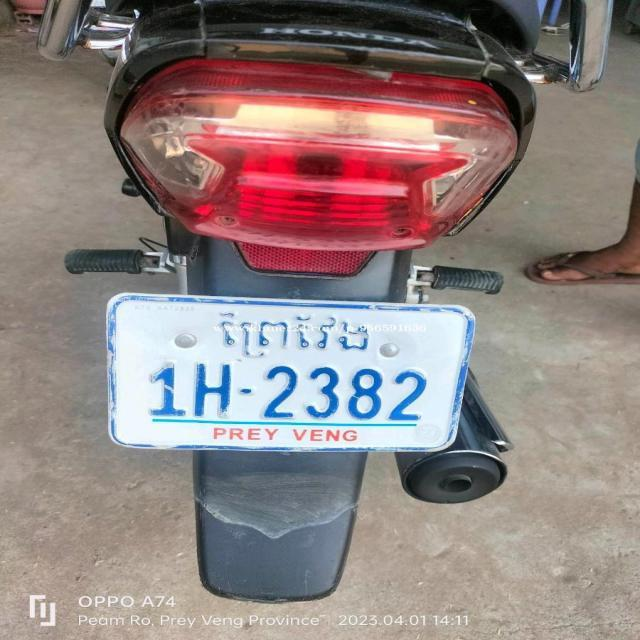Prey_Veng: (216, 305, 372, 358)
